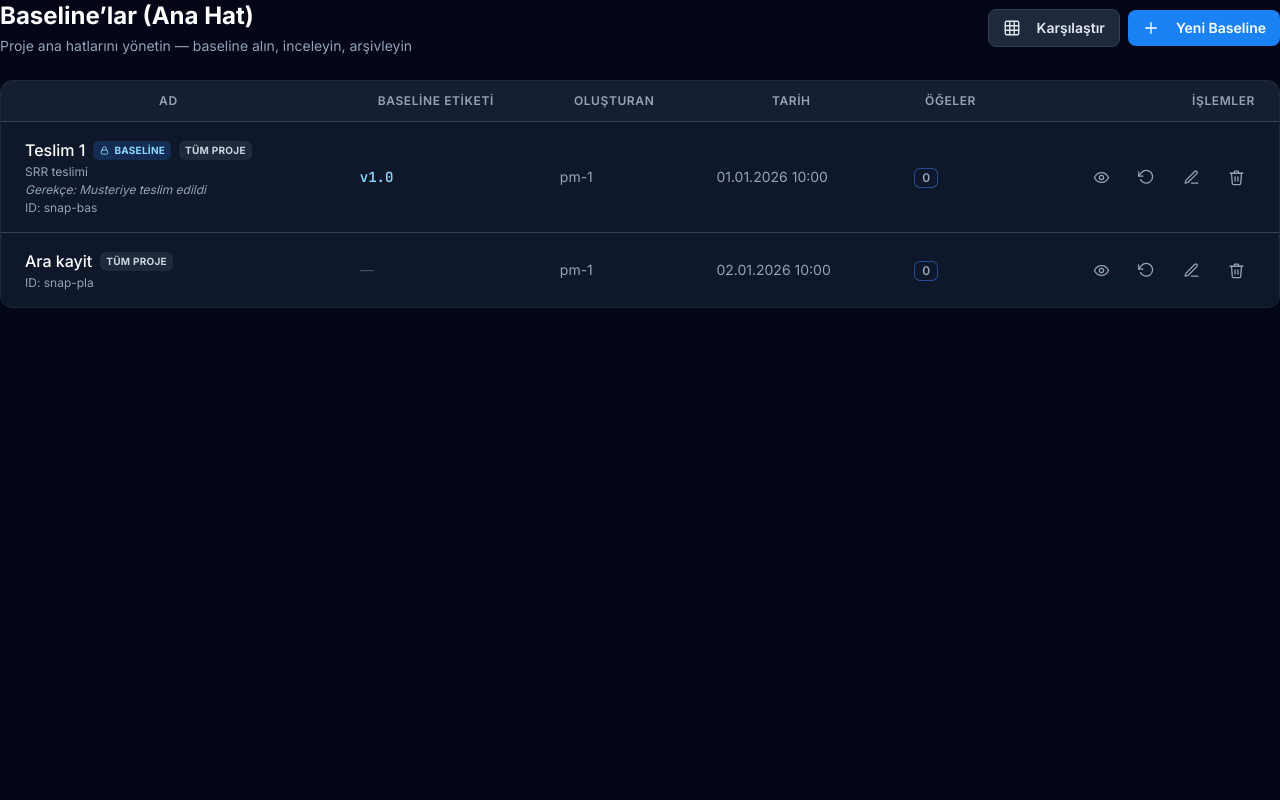
Baseline — geri yukleme › tamamlaninca guvenlik kopyasinin adi duyurulur (islem geri alinabilir)
The image size is (1280, 800).
Click the button named "Güncel baseline’a geri dön" in the row of "SRR teslimi" at (1146, 177), box [1128,162,1165,192]
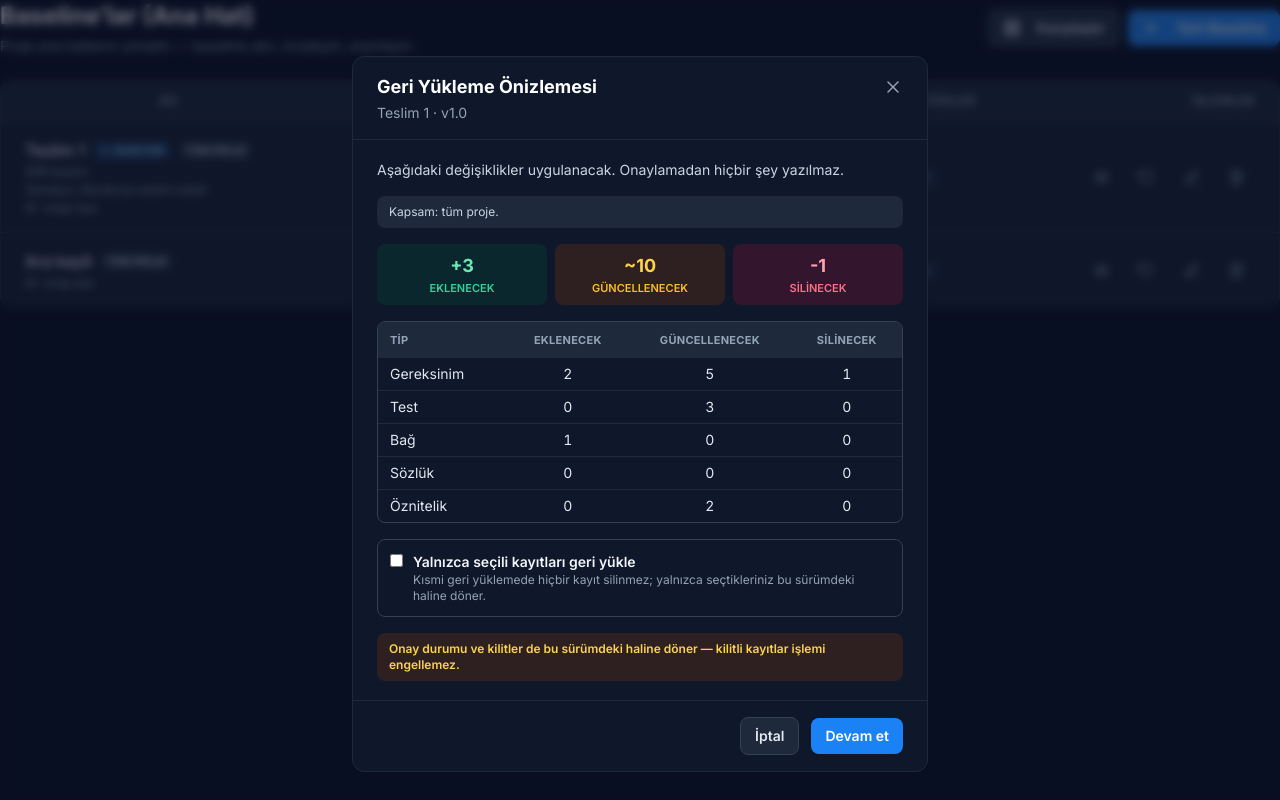
Result: the button with test id "restore-confirm" is shown
Click the button with test id "restore-confirm" at (857, 736), box [811,718,903,754]
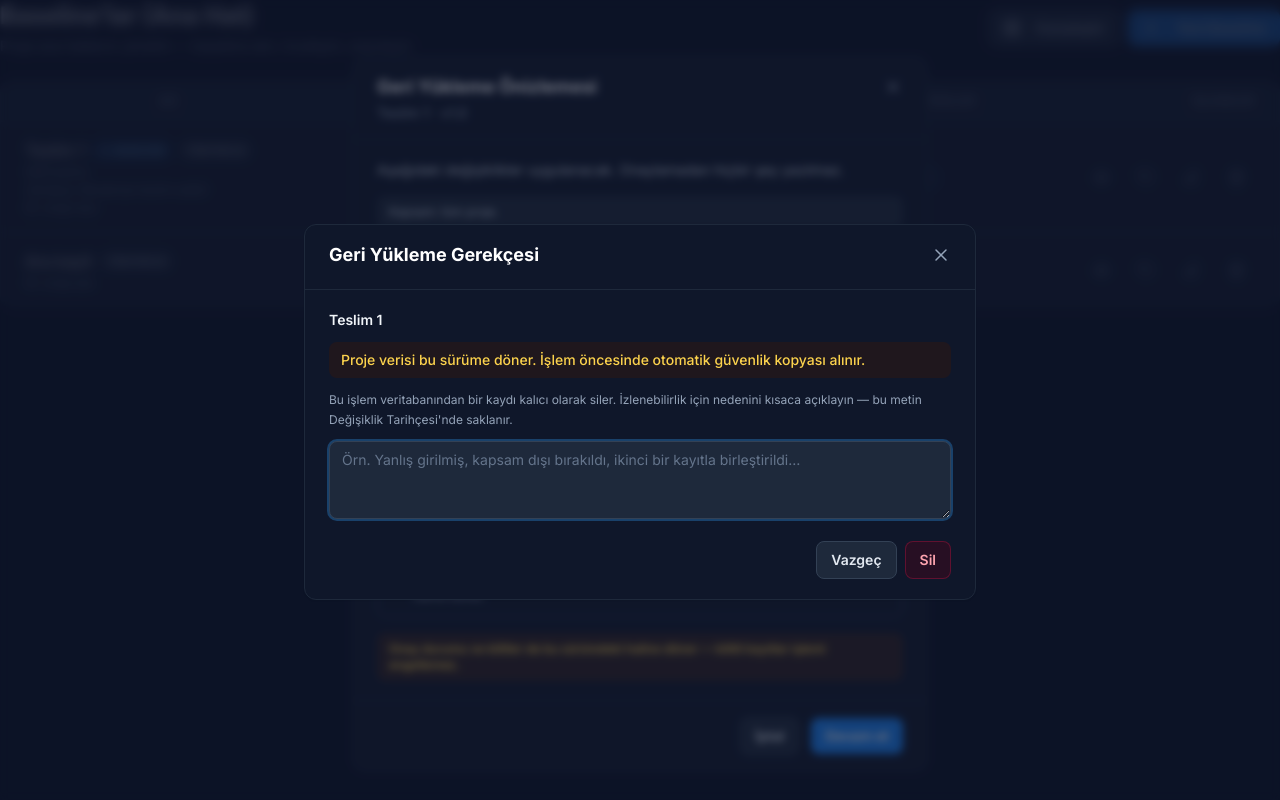
Replace the text in the text box with "Geri donuluyor" at (640, 480), box [329,441,951,519]
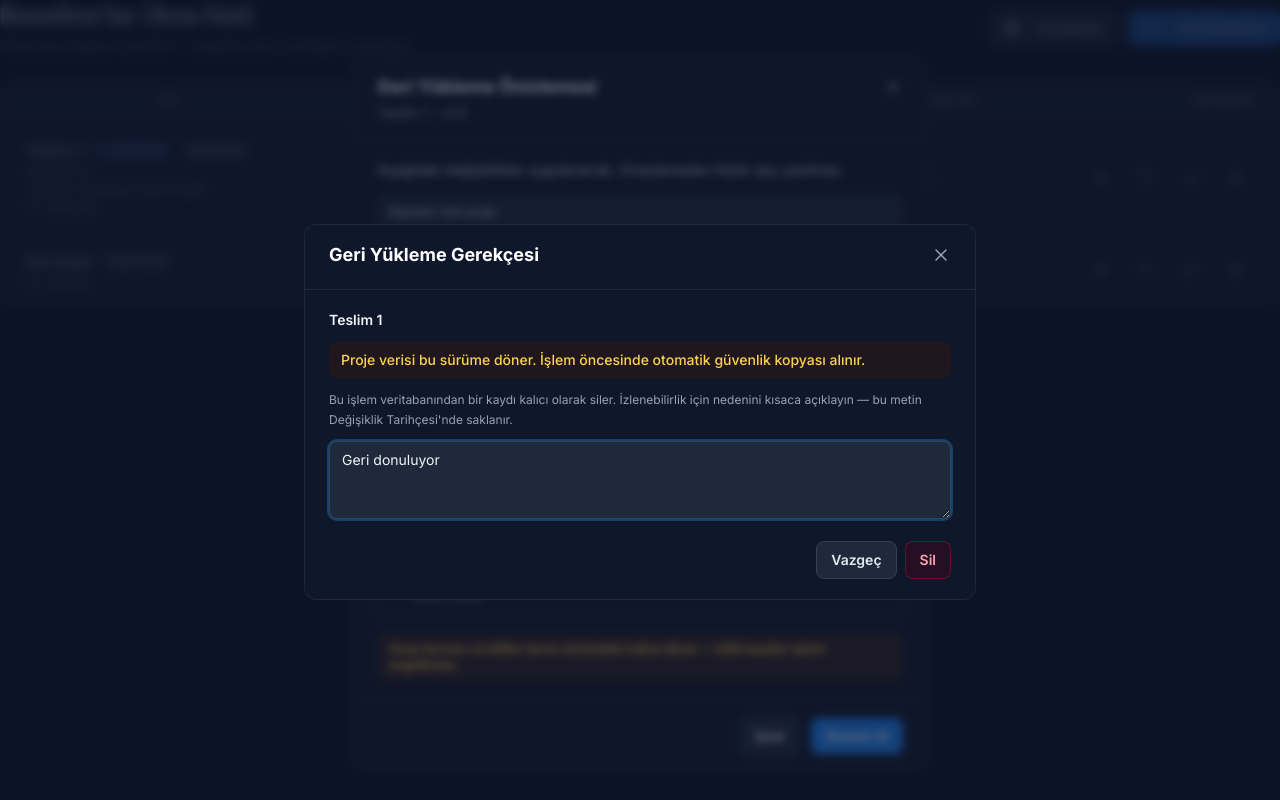
Click the button "Sil" at (928, 560), box [905,541,951,579]
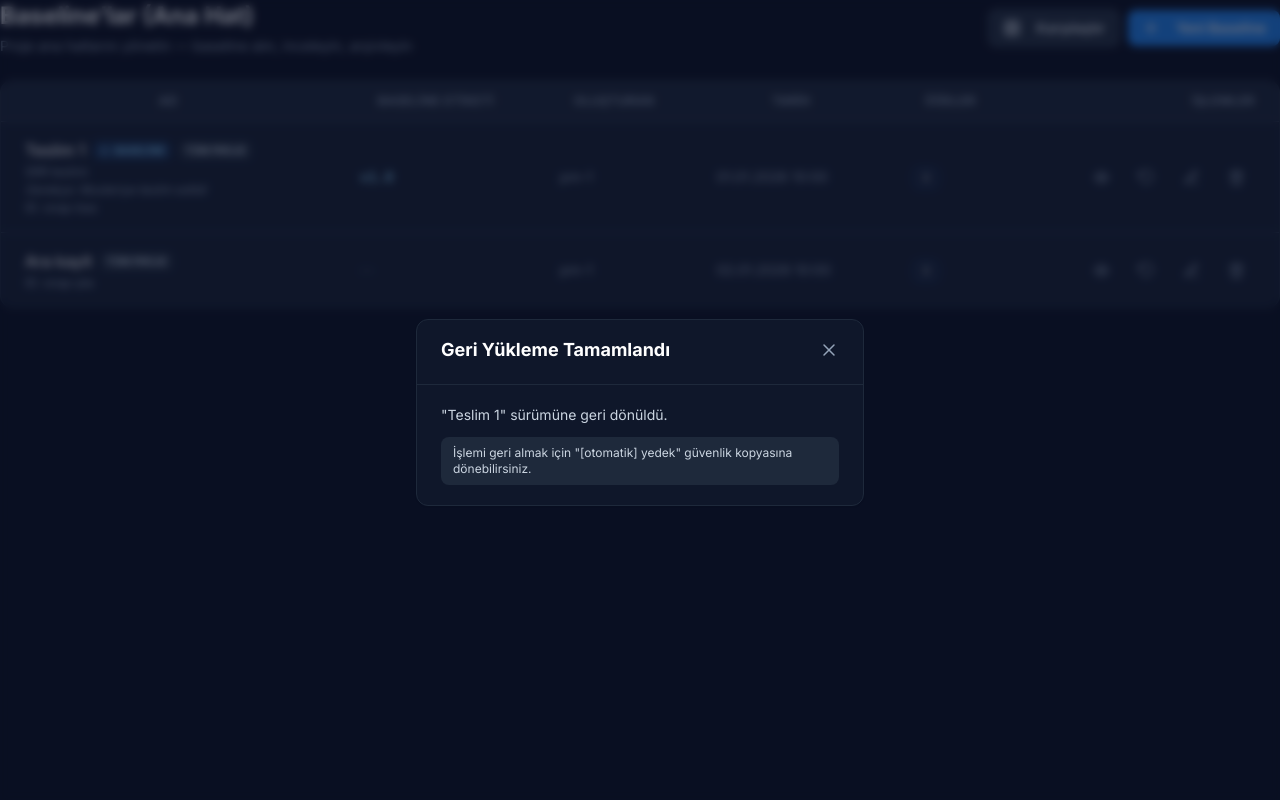
Result: the text "\"Teslim 1\" sürümüne geri dönüldü." is shown at [441,406,668,422]
Result: the text "otomatik] yedek" is shown at [453,444,792,476]
